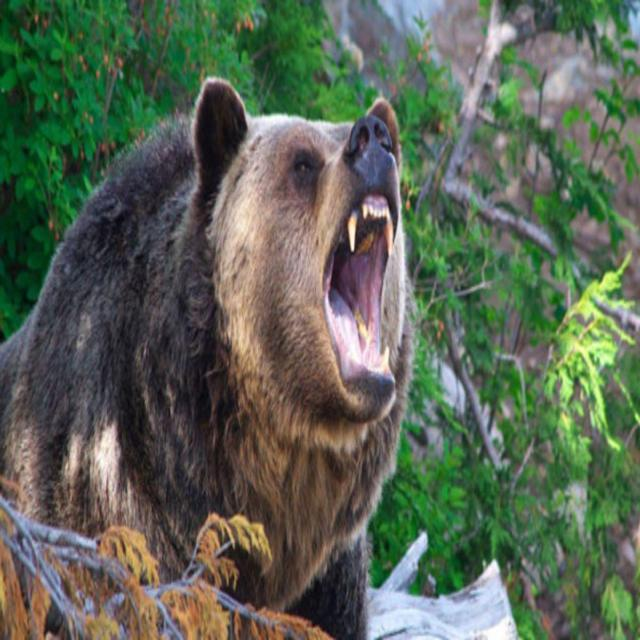Bear: (0, 78, 418, 640)
